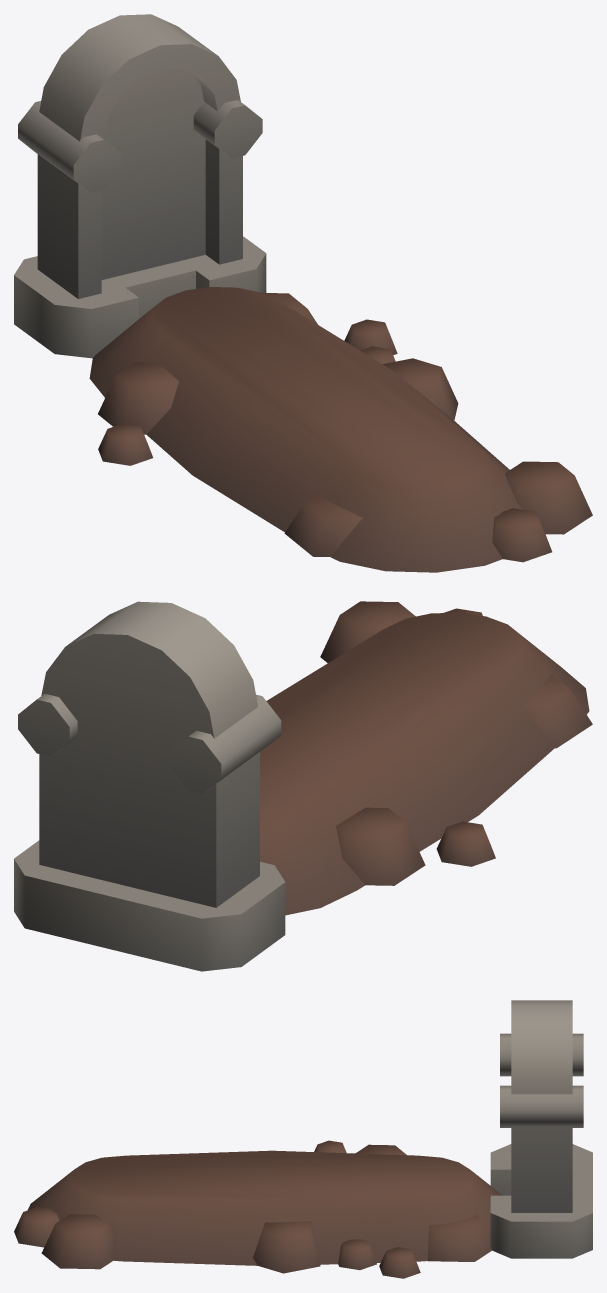
The model's file is grave-round.glb.
3 views of the same model, one above another, from view 1: azimuth 30°, elevation 25°; view 2: azimuth 150°, elevation 25°; view 3: azimuth 270°, elevation 25° (orthographic). The views are drawn at different scales.
Parts seen in each view (by area): view 1: grave, gravestone-round; view 2: gravestone-round, grave; view 3: grave, gravestone-round.
Boxes of the visible parts, bbox=[...] form: grave: bbox=[89, 287, 592, 572]; gravestone-round: bbox=[14, 14, 266, 358]; gravestone-round: bbox=[14, 601, 285, 971]; grave: bbox=[260, 601, 592, 915]; grave: bbox=[14, 1140, 501, 1278]; gravestone-round: bbox=[490, 1000, 592, 1258].
Bounding box in the file's own units: 0.7238 × 0.575 × 1.42.
Materials: 1 (1 with a texture image).
